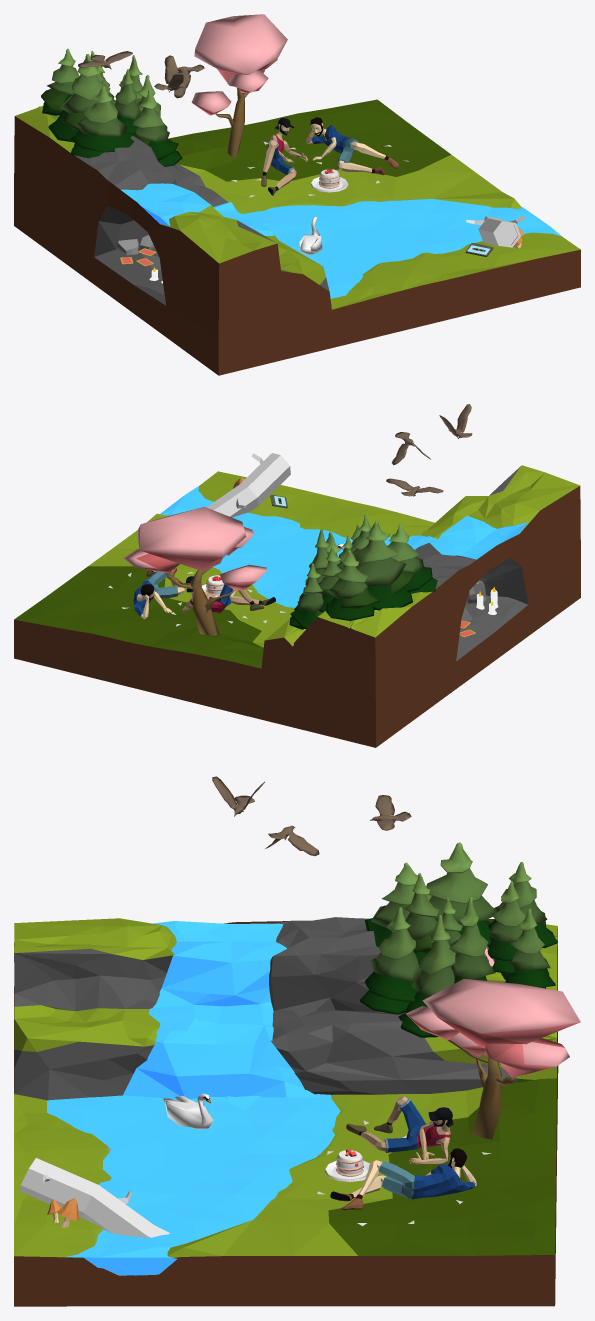
3 views of the same model, one above another, from view 1: azimuth 30°, elevation 25°; view 2: azimuth 150°, elevation 25°; view 3: azimuth 270°, elevation 25° (orthographic). The views are drawn at different scales.
Visible parts, largest first — view 1: land, water, TreePinkA, TreePineA.007, TreePineA.002, scott, TreePineA.006, MichaelLay1, TreePineA, Trunk_03.001, TreePineA.005, Cake (+2 smaller); view 2: land, water, TreePinkA, TreePineA.002, Trunk_03.001, TreePineA, TreePineA.007, scott, TreePineA.011, MichaelLay1, TreePineA.003, TreePineA.008 (+1 smaller); view 3: land, water, TreePinkA, Trunk_03.001, TreePineA.006, scott, MichaelLay1, TreePineA.002, TreePineA.009, TreePineA.011, TreePineA.008, TreePineA.003 (+6 smaller).
Part boxes in pixels (bbox=[...]): land: bbox=[14, 99, 580, 375]; water: bbox=[121, 183, 561, 298]; TreePinkA: bbox=[191, 14, 287, 158]; TreePineA.007: bbox=[71, 86, 134, 158]; TreePineA.002: bbox=[48, 54, 116, 142]; scott: bbox=[306, 117, 399, 175]; TreePineA.006: bbox=[133, 89, 182, 166]; MichaelLay1: bbox=[261, 118, 308, 195]; TreePineA: bbox=[41, 48, 79, 115]; Trunk_03.001: bbox=[466, 215, 525, 247]; TreePineA.005: bbox=[115, 69, 141, 137]; Cake: bbox=[310, 168, 348, 192]; land: bbox=[14, 465, 580, 747]; water: bbox=[160, 486, 528, 607]; TreePinkA: bbox=[123, 506, 266, 635]; TreePineA.002: bbox=[355, 521, 413, 610]; Trunk_03.001: bbox=[206, 453, 290, 517]; TreePineA: bbox=[325, 550, 380, 620]; TreePineA.007: bbox=[388, 524, 437, 593]; scott: bbox=[133, 567, 184, 619]; TreePineA.011: bbox=[289, 563, 323, 629]; MichaelLay1: bbox=[182, 576, 275, 613]; TreePineA.003: bbox=[318, 547, 341, 612]; TreePineA.008: bbox=[294, 528, 329, 610]; land: bbox=[14, 917, 558, 1306]; water: bbox=[46, 921, 340, 1275]; TreePinkA: bbox=[406, 979, 580, 1139]; Trunk_03.001: bbox=[20, 1158, 169, 1237]; TreePineA.006: bbox=[360, 907, 422, 1014]; scott: bbox=[330, 1148, 476, 1209]; MichaelLay1: bbox=[346, 1096, 453, 1164]; TreePineA.002: bbox=[426, 842, 494, 945]; TreePineA.009: bbox=[398, 915, 455, 1037]; TreePineA.011: bbox=[501, 908, 555, 988]; TreePineA.008: bbox=[449, 897, 495, 983]; TreePineA.003: bbox=[487, 881, 525, 973].
Size of the model in its own units: 503 by 317 by 510.
